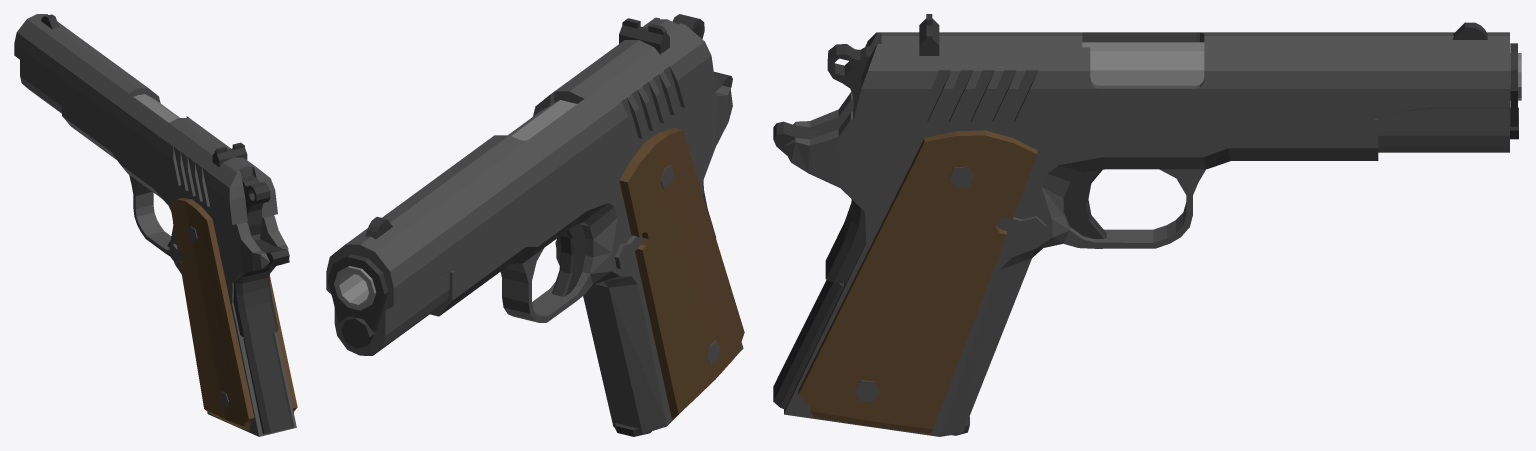
3 views of the same model, side by side, from view 1: azimuth 30°, elevation 25°; view 2: azimuth 150°, elevation 25°; view 3: azimuth 270°, elevation 25° (orthographic). The views are drawn at different scales.
Visible parts, largest first — view 1: M1911, M1911Slide, M1911_Hammer; view 2: M1911, M1911Slide, M1911_Trigger, M1911_Hammer; view 3: M1911, M1911Slide, M1911_Trigger, M1911_Hammer.
Boxes of the visible parts, bbox=[...] form: M1911: bbox=[62, 94, 297, 436]; M1911Slide: bbox=[14, 14, 277, 224]; M1911_Hammer: bbox=[241, 175, 270, 235]; M1911: bbox=[334, 72, 744, 434]; M1911Slide: bbox=[326, 17, 715, 355]; M1911_Trigger: bbox=[552, 223, 585, 296]; M1911_Hammer: bbox=[672, 14, 704, 38]; M1911: bbox=[773, 42, 1521, 436]; M1911Slide: bbox=[853, 14, 1518, 152]; M1911_Trigger: bbox=[1063, 170, 1106, 238]; M1911_Hammer: bbox=[827, 44, 875, 106].
Bounding box in the file's own units: 0.0308 × 0.1496 × 0.2502.
1 material, 1 textured.
